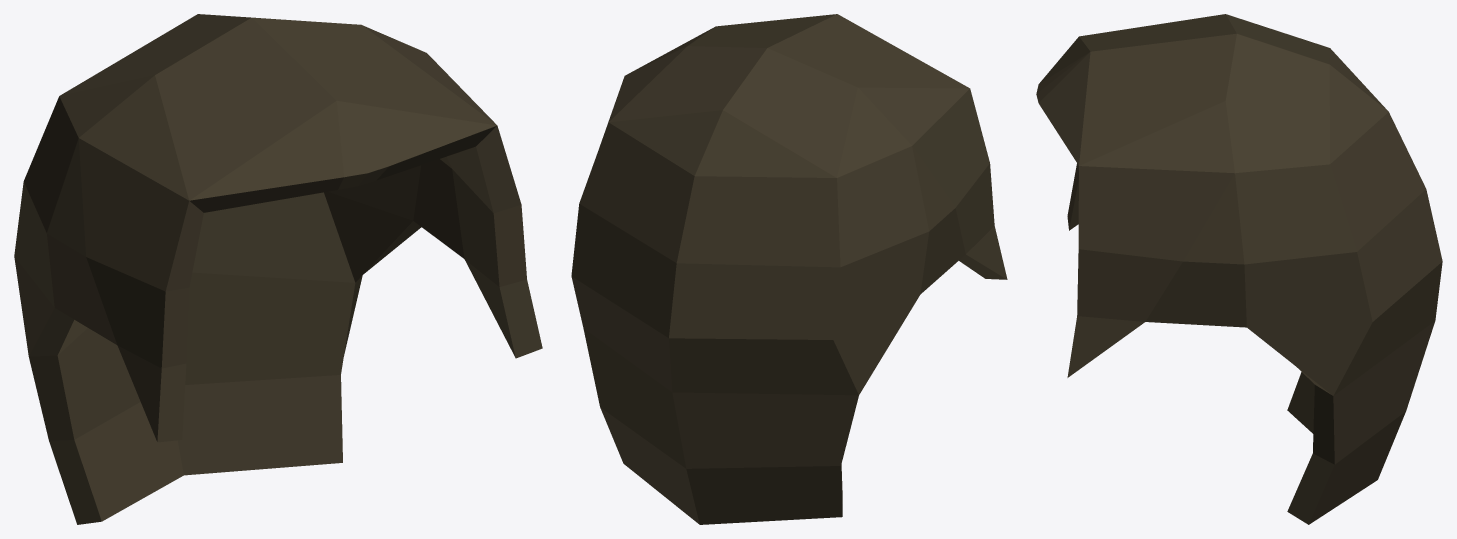
Rendered from crowd_eclair_male_hairstyle_1.305b2b04.glb.
3 views of the same model, side by side, from view 1: azimuth 30°, elevation 25°; view 2: azimuth 150°, elevation 25°; view 3: azimuth 270°, elevation 25° (orthographic). The views are drawn at different scales.
Parts seen in each view (by area): view 1: Male_Hairstyle_1_Human_CylinderMesh.002; view 2: Male_Hairstyle_1_Human_CylinderMesh.002; view 3: Male_Hairstyle_1_Human_CylinderMesh.002.
Boxes of the visible parts, x1,y1,x2,y2 form: Male_Hairstyle_1_Human_CylinderMesh.002: (14, 14, 542, 524); Male_Hairstyle_1_Human_CylinderMesh.002: (571, 14, 1007, 524); Male_Hairstyle_1_Human_CylinderMesh.002: (1036, 14, 1442, 524).
Bounding box in the file's own units: 0.5025 × 0.6203 × 0.5118.
